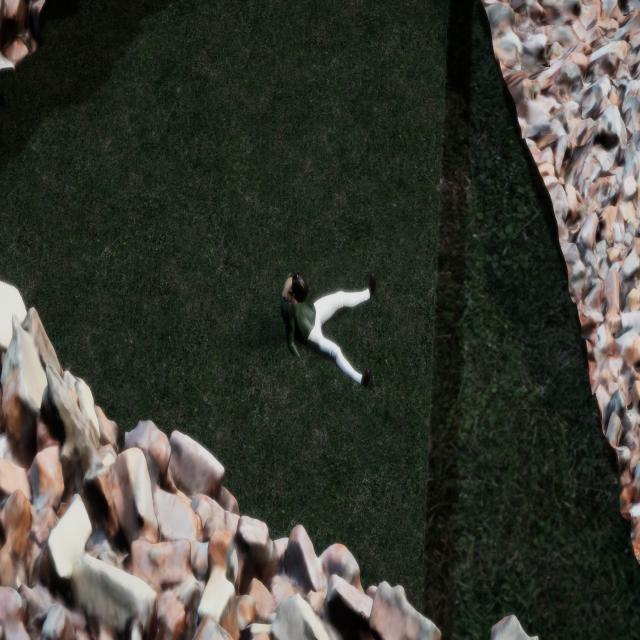Human: (280, 256, 389, 412)
